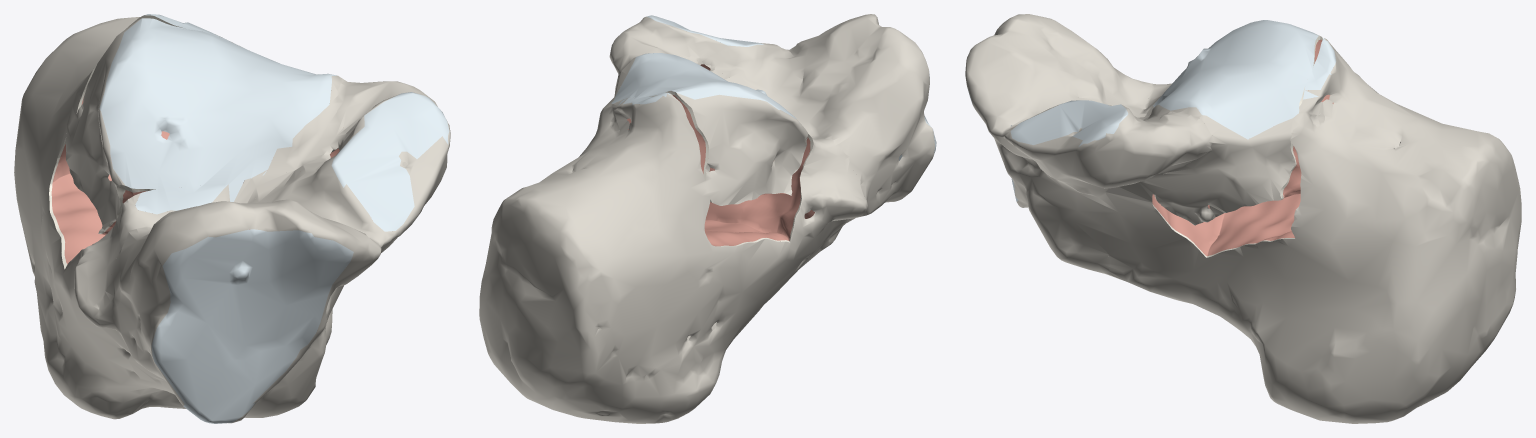
The model's file is S-IIC_elderly.glb.
The picture shows the model from 3 angles, left to right: view 1: azimuth 30°, elevation 25°; view 2: azimuth 150°, elevation 25°; view 3: azimuth 270°, elevation 25°; orthographic projection. The views are drawn at different scales.
Visible parts, largest first — view 1: calcaneus: sustentacular fragment, calcaneus: depressed lateral joint fragment, calcaneus: tuberosity; view 2: calcaneus: tuberosity, calcaneus: sustentacular fragment, calcaneus: depressed lateral joint fragment; view 3: calcaneus: tuberosity, calcaneus: sustentacular fragment, calcaneus: depressed lateral joint fragment.
Boxes of the visible parts, x1,y1,x2,y2 form: calcaneus: sustentacular fragment: [98, 78, 450, 423]; calcaneus: depressed lateral joint fragment: [65, 18, 348, 235]; calcaneus: tuberosity: [14, 14, 348, 419]; calcaneus: tuberosity: [479, 53, 867, 423]; calcaneus: sustentacular fragment: [609, 14, 936, 245]; calcaneus: depressed lateral joint fragment: [601, 53, 807, 205]; calcaneus: tuberosity: [1102, 38, 1521, 423]; calcaneus: sustentacular fragment: [965, 14, 1213, 277]; calcaneus: depressed lateral joint fragment: [1143, 20, 1333, 225].
Bounding box in the file's own units: 0.0475 × 0.0513 × 0.0757.
